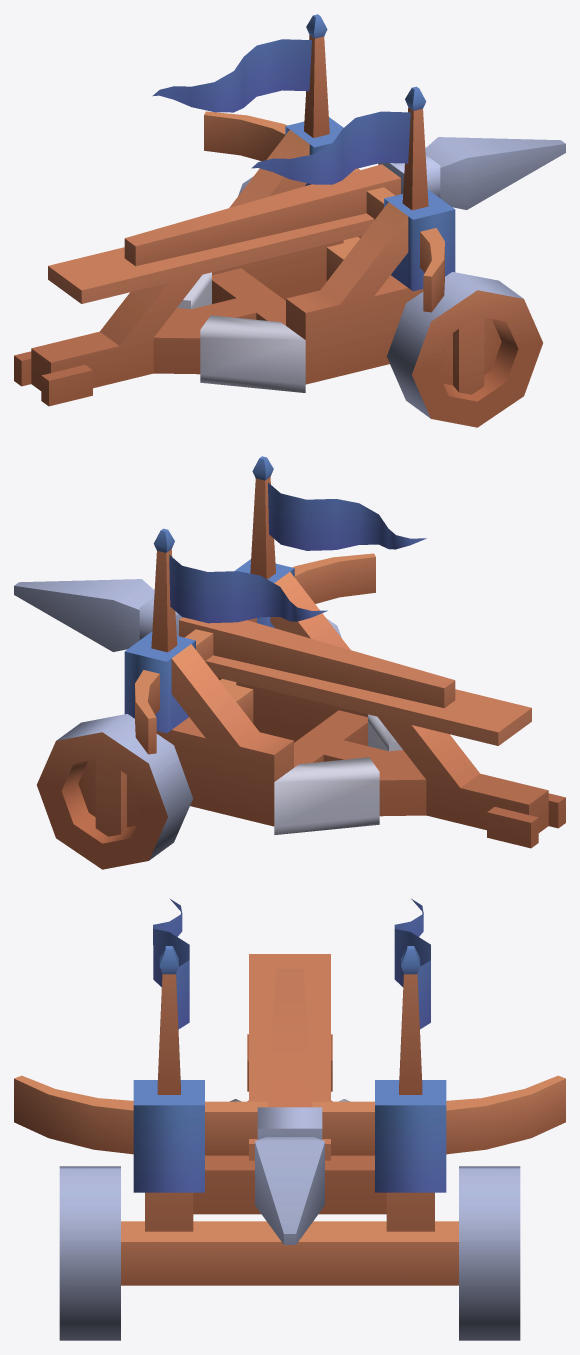
File: siege-ballista.glb
3 views of the same model, one above another, from view 1: azimuth 30°, elevation 25°; view 2: azimuth 150°, elevation 25°; view 3: azimuth 270°, elevation 25° (orthographic). The views are drawn at different scales.
Parts seen in each view (by area): view 1: siege-ballista; view 2: siege-ballista; view 3: siege-ballista.
Boxes of the visible parts, left/top/right/bottom form: siege-ballista: left=14, top=14, right=565, bottom=427; siege-ballista: left=14, top=456, right=565, bottom=869; siege-ballista: left=14, top=898, right=565, bottom=1340.
Size of the model in its own units: 1.63 by 0.9102 by 1.2.
1 material, 1 textured.
